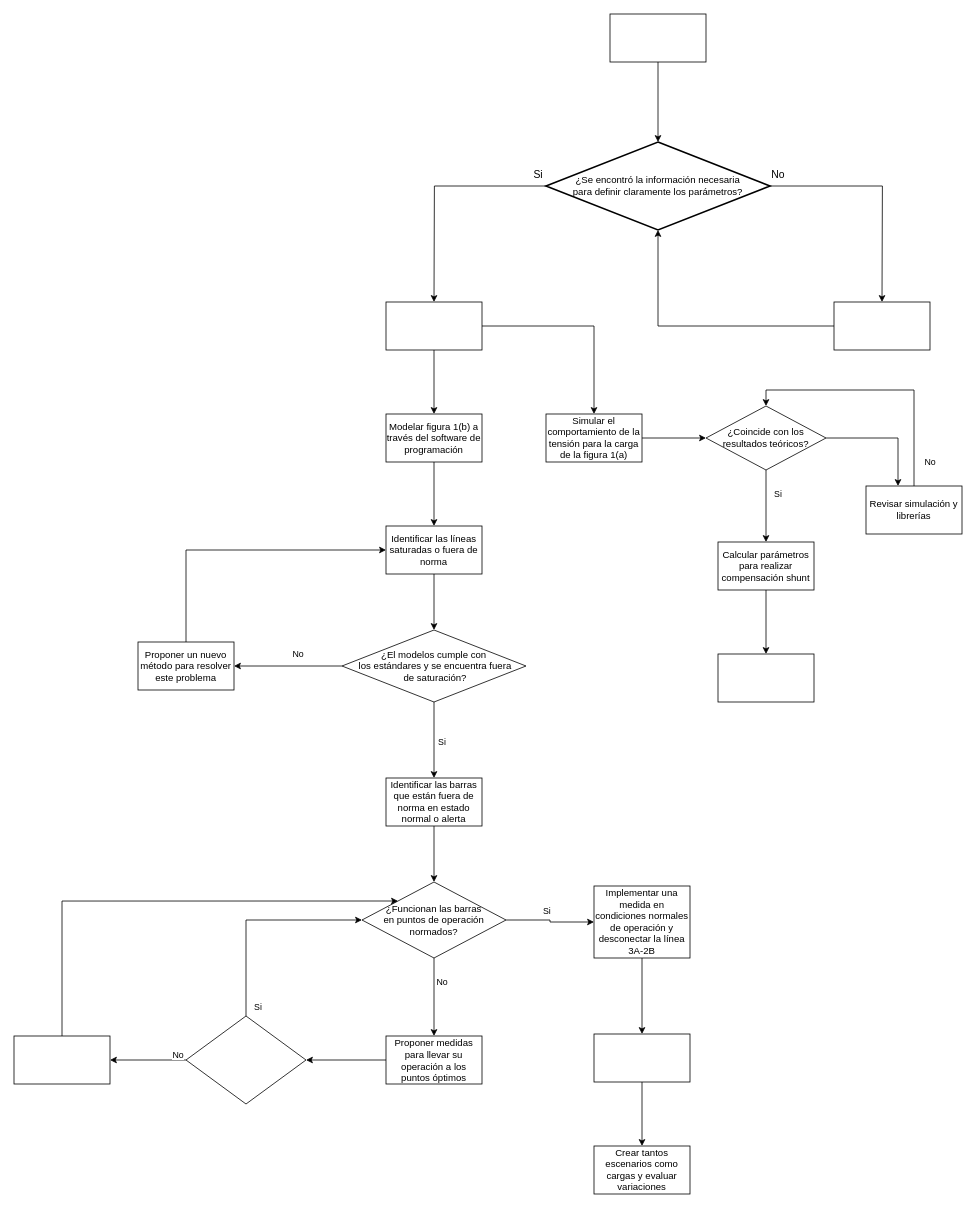
Image size: 976x1208. Some labels were removed from this diagram. The box of each missing label's shape, as (x1, y1, x2, y2) in pixels:
Buscar información importante en la NTSyCS: (609, 13, 706, 62)
Buscar la información faltante: (833, 301, 930, 350)
Buscar más soluciones para tener alternativas: (13, 1035, 110, 1084)
Definir modelo y contrastar con librería pandapower: (385, 301, 482, 350)
Realizar análisis de pérdidas: (717, 653, 814, 702)
Volver a conectar la línea e inyectar un 20% más de reactivos: (593, 1033, 690, 1082)
¿Se encontraron por lo menos 3 métodos?: (185, 1015, 306, 1104)
